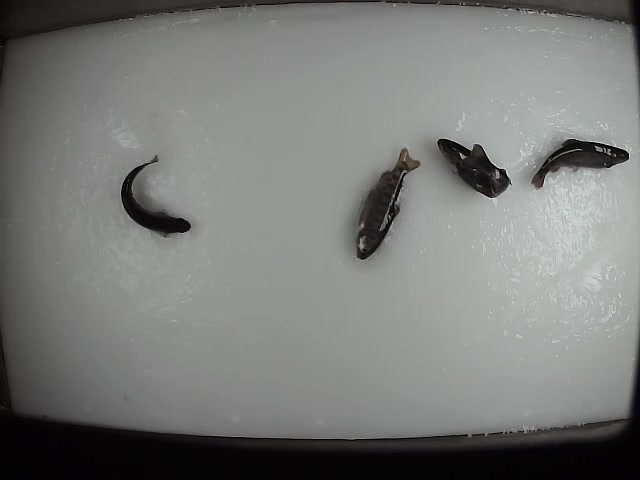fish: (353, 144, 423, 263), (118, 150, 192, 240), (527, 136, 633, 191), (435, 135, 513, 201)
